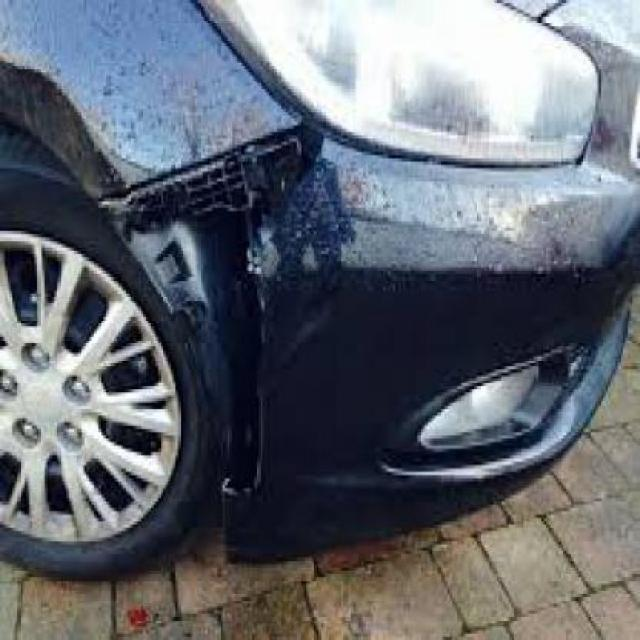damaged-front-bumper: (136, 125, 638, 561)
